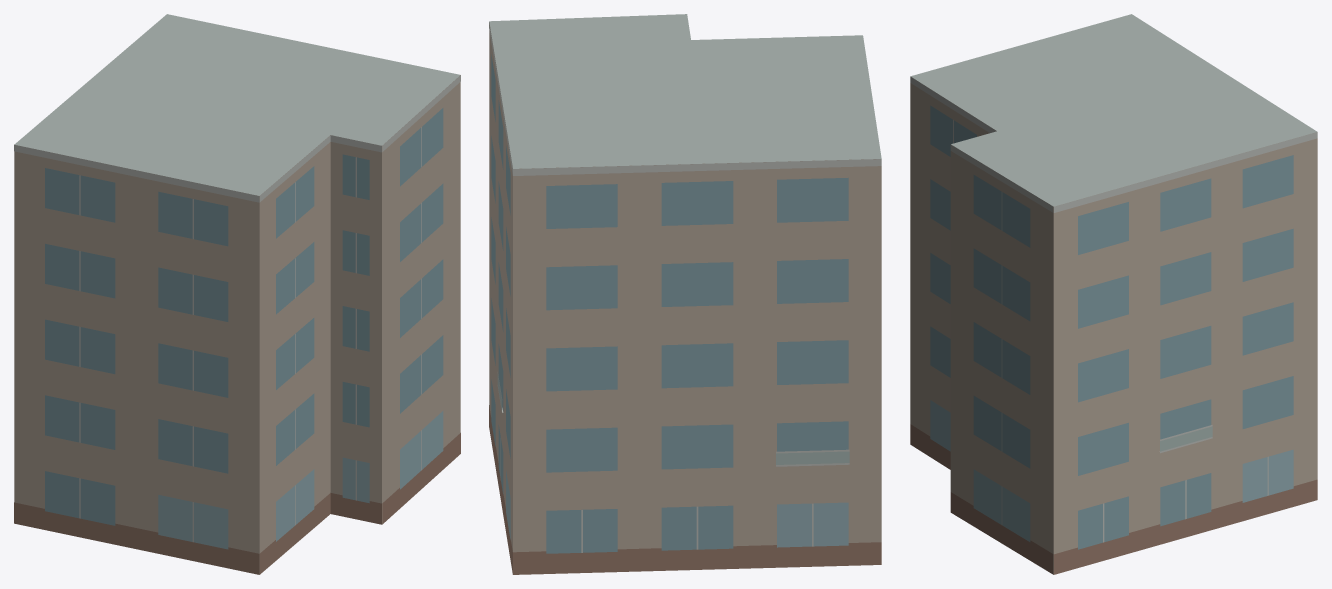
File: survey-upis-32954542.glb
The picture shows the model from 3 angles, left to right: view 1: azimuth 30°, elevation 25°; view 2: azimuth 150°, elevation 25°; view 3: azimuth 270°, elevation 25°; orthographic projection. The views are drawn at different scales.
Visible parts, largest first — view 1: survey-upis-32954542.tmp; view 2: survey-upis-32954542.tmp; view 3: survey-upis-32954542.tmp.
Boxes of the visible parts, left/top/right/bottom form: survey-upis-32954542.tmp: left=14, top=14, right=460, bottom=574; survey-upis-32954542.tmp: left=489, top=14, right=881, bottom=574; survey-upis-32954542.tmp: left=910, top=14, right=1317, bottom=574.
Size of the model in its own units: 15.56 by 13.85 by 13.9.
